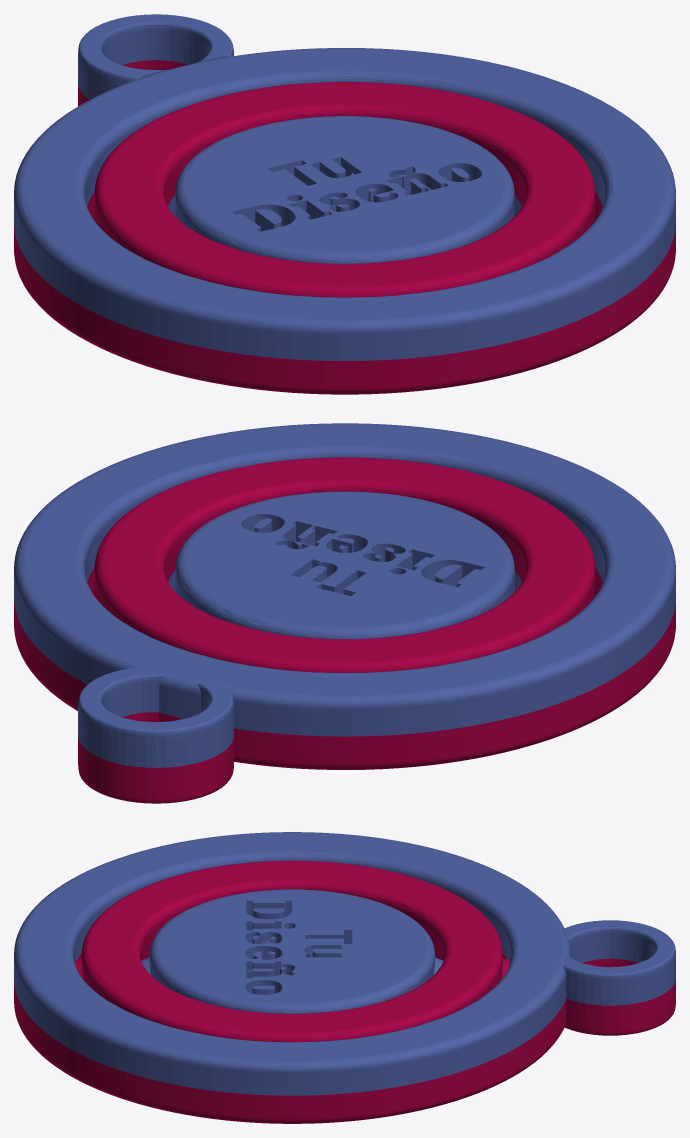
The model's file is llavero-giratorio_preview.glb.
3 views of the same model, one above another, from view 1: azimuth 30°, elevation 25°; view 2: azimuth 150°, elevation 25°; view 3: azimuth 270°, elevation 25° (orthographic). The views are drawn at different scales.
Size of the model in its own units: 45.68 by 5.61 by 54.27.
